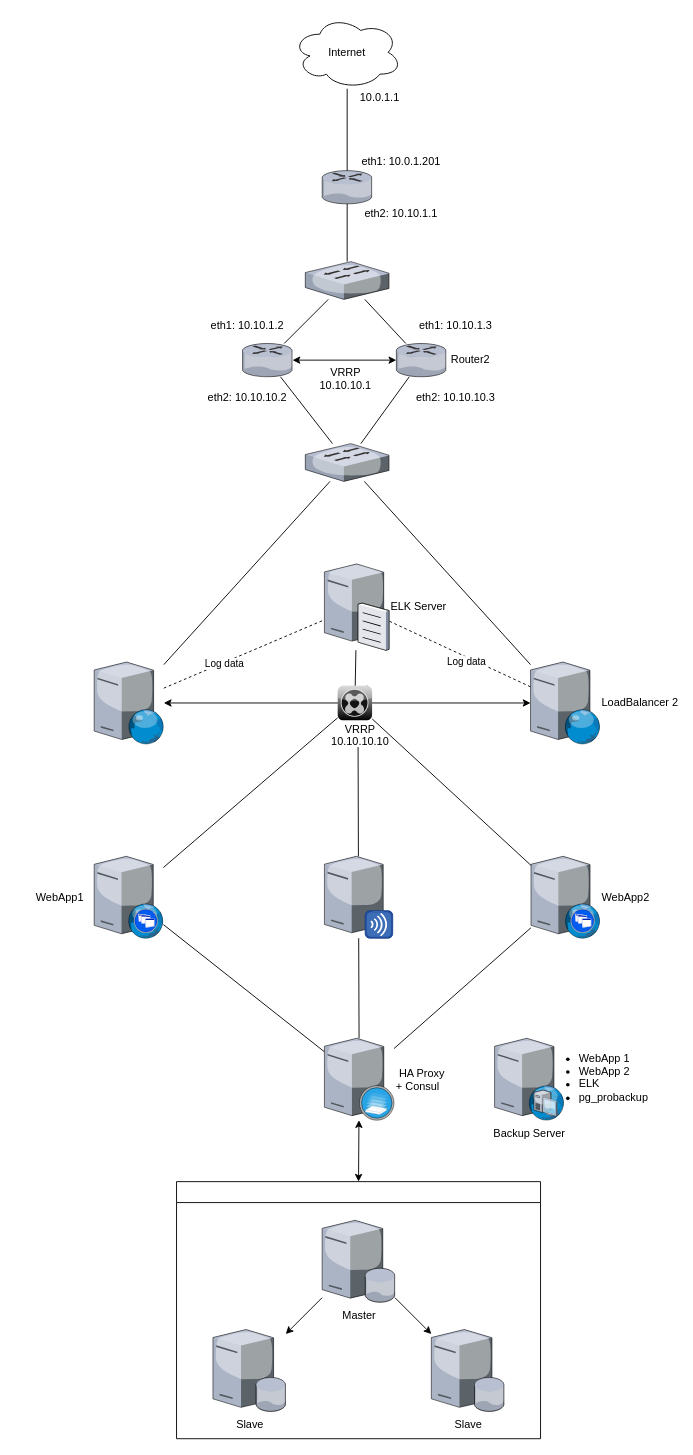
This 693x1455 diagram has some shape labels left out. The centre of each missing label's shape, as x and y in pixels:
ISP: the point at 347,186
LoadBalancer 1: the point at 128,702
PostgreSQL Cluster: the point at 358,1310
Router1: the point at 267,359
Zabbix: the point at 358,897
